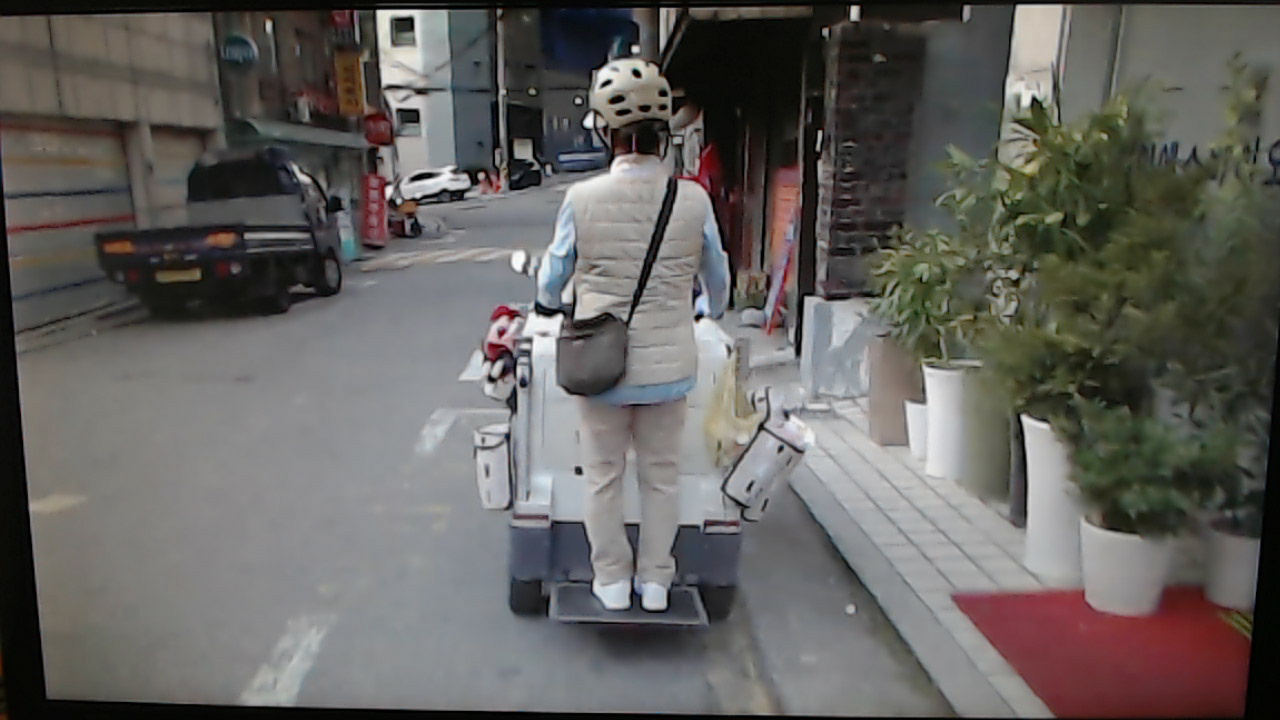Yakurut: (522, 52, 748, 633)
